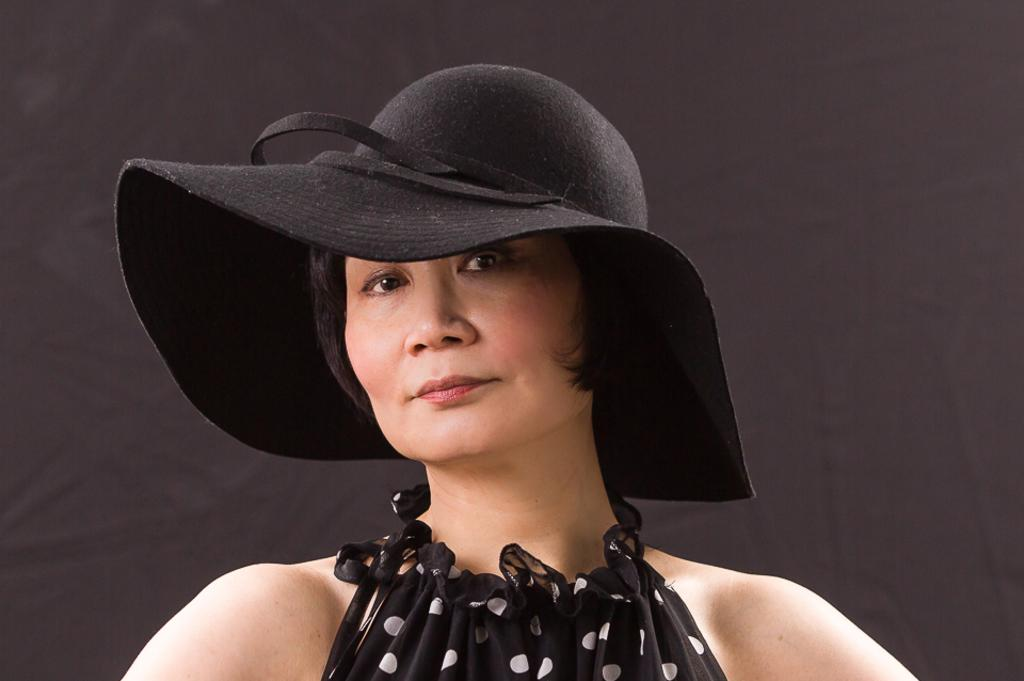Hat: (115, 60, 755, 500)
